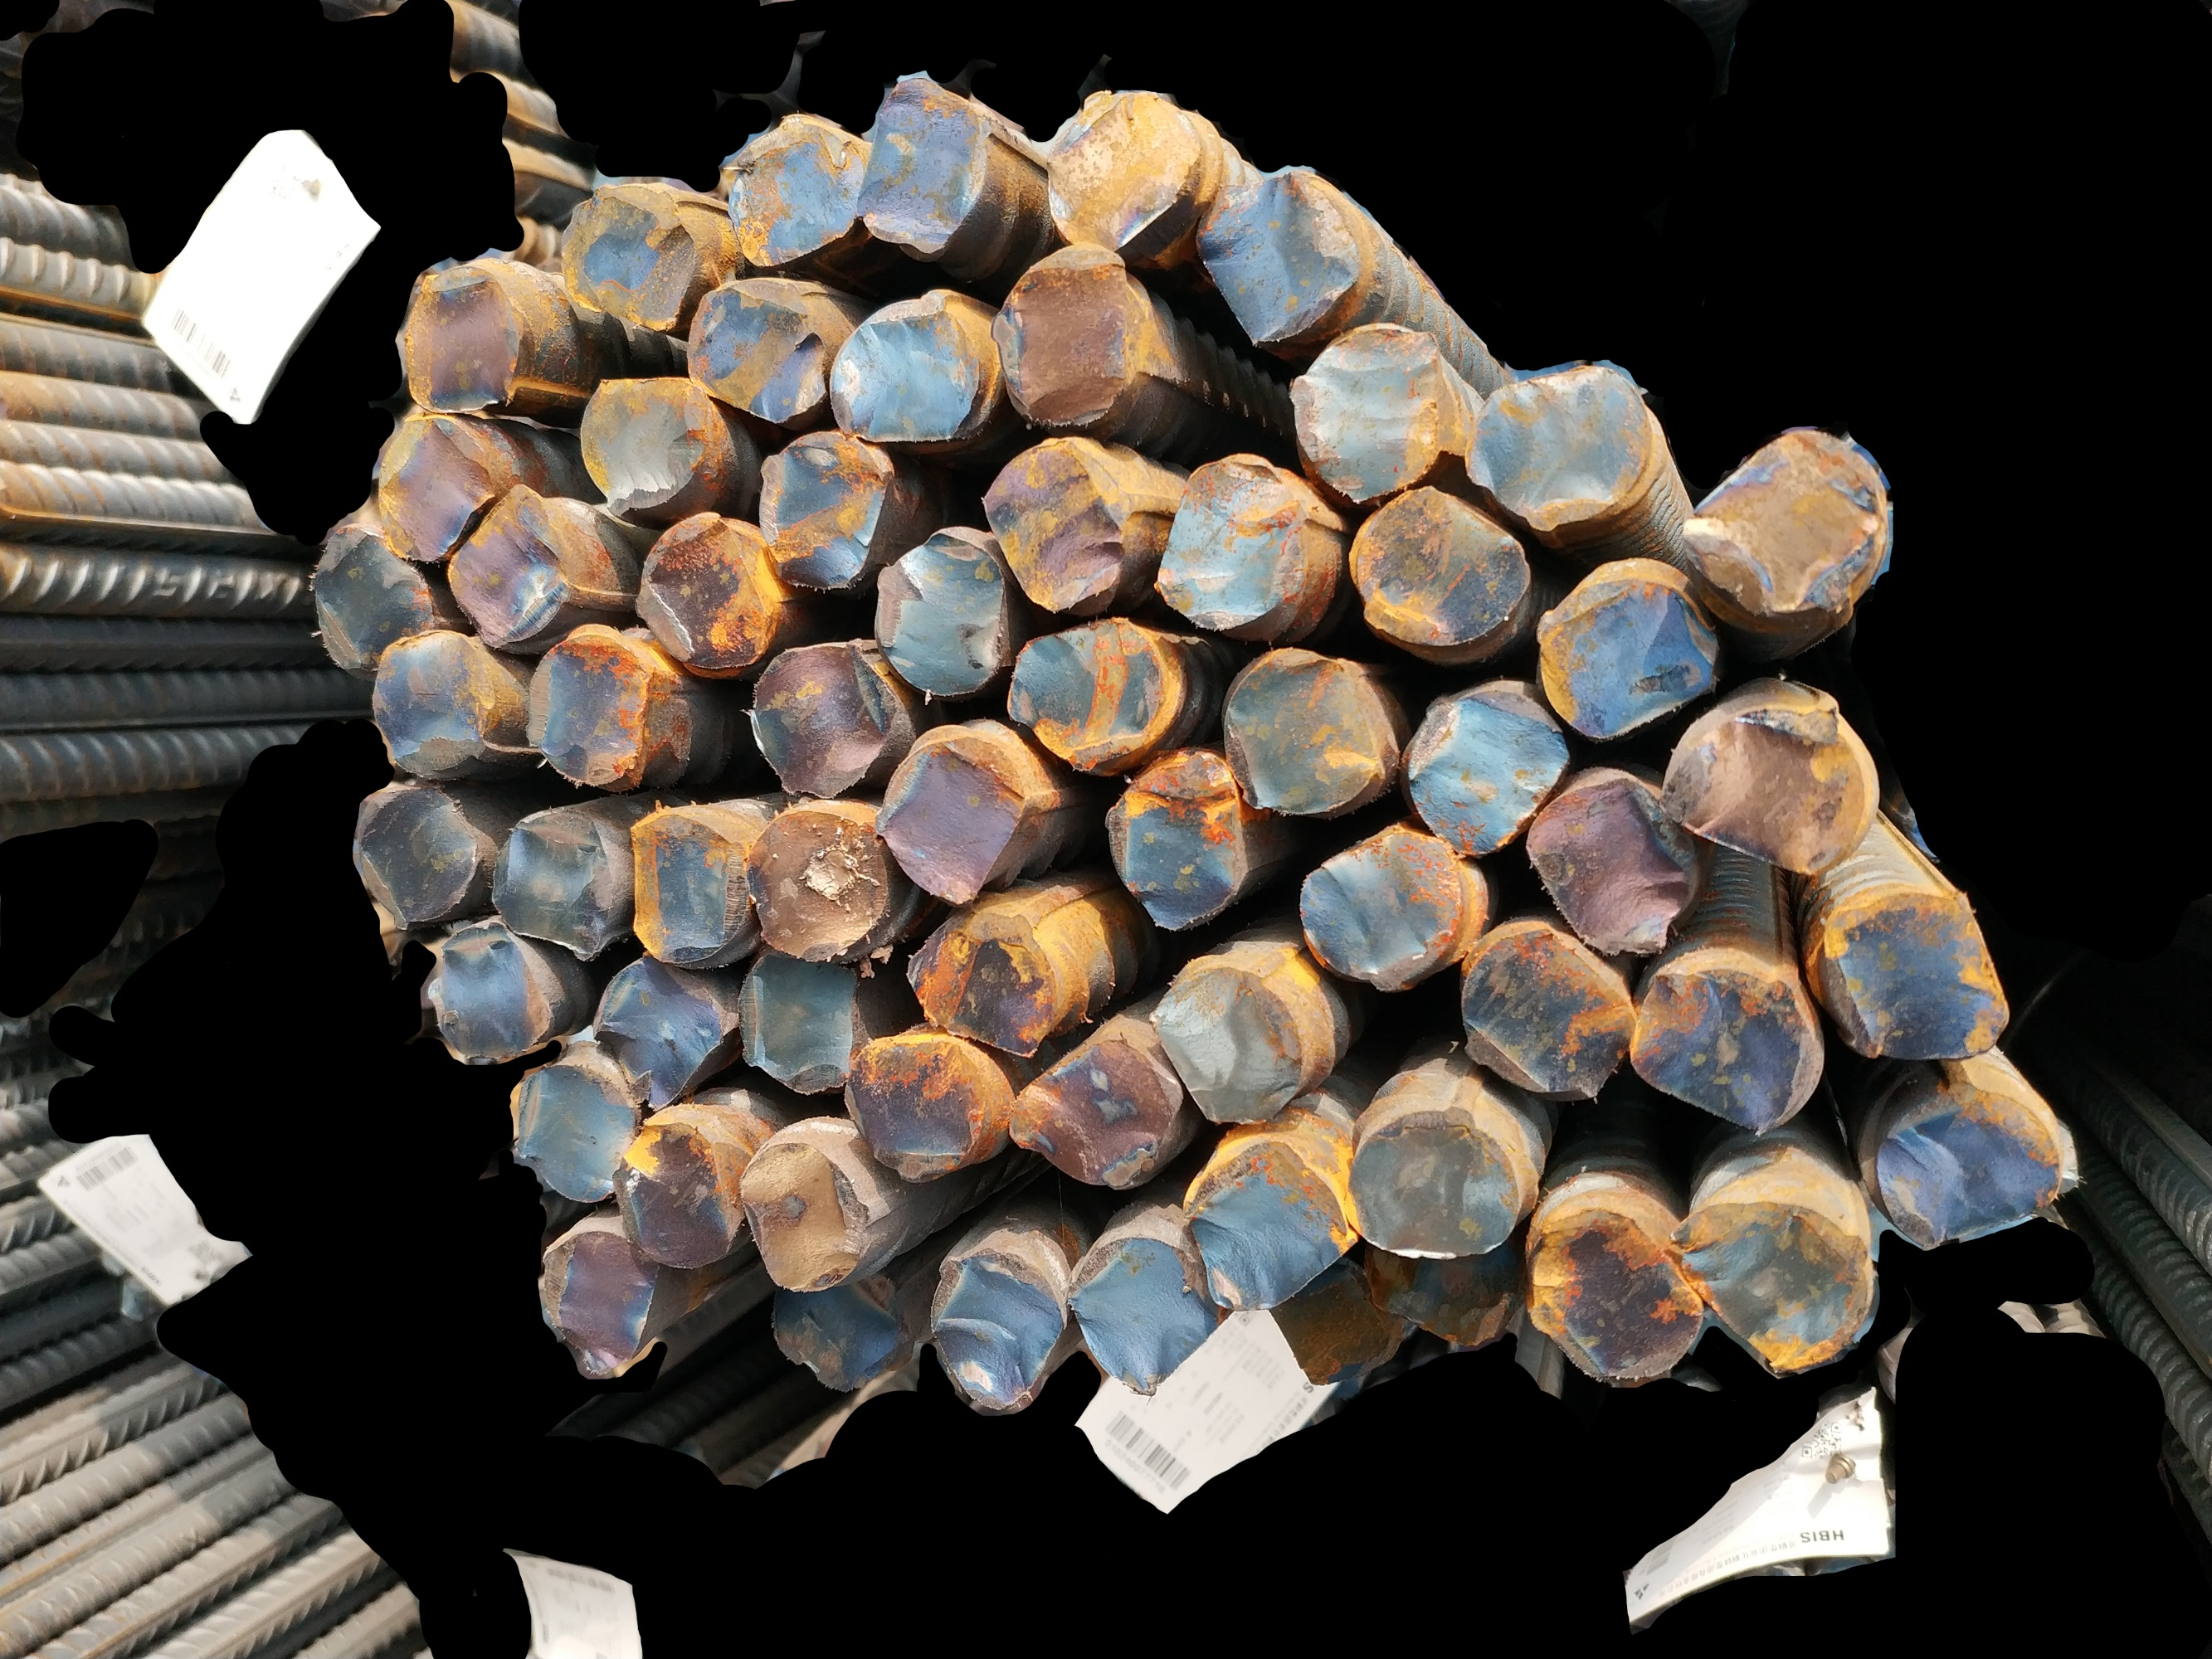rebar: (1677, 422, 1895, 620), (1663, 1192, 1883, 1378), (1863, 1070, 2080, 1253), (1658, 697, 1876, 878), (1806, 890, 2017, 1065), (1520, 770, 1710, 960), (1530, 556, 1720, 742), (1623, 957, 1816, 1138), (1462, 356, 1656, 535), (1454, 918, 1637, 1100), (1520, 1209, 1706, 1385), (1347, 479, 1536, 653), (1279, 317, 1452, 504), (1401, 674, 1572, 863), (1002, 610, 1194, 777), (1192, 164, 1365, 347), (1178, 1141, 1353, 1321), (988, 240, 1150, 432), (1098, 742, 1255, 939), (1215, 645, 1393, 816), (868, 732, 1037, 911), (1295, 819, 1469, 992), (1006, 1030, 1187, 1192), (1154, 451, 1313, 636), (1342, 1107, 1527, 1263), (1149, 962, 1313, 1134), (978, 436, 1130, 617), (744, 638, 903, 810), (1063, 1234, 1222, 1401), (851, 75, 994, 258), (587, 950, 743, 1115), (1044, 87, 1198, 254), (870, 521, 1013, 701), (903, 904, 1060, 1065), (828, 288, 987, 444), (633, 505, 776, 676), (842, 1032, 1001, 1185), (556, 179, 708, 338), (924, 1248, 1069, 1413), (743, 805, 892, 964), (755, 432, 899, 596), (725, 113, 872, 272), (446, 477, 577, 652), (730, 948, 880, 1100), (736, 1140, 880, 1297), (680, 281, 833, 427), (575, 364, 716, 521), (399, 256, 535, 418), (519, 620, 654, 784), (309, 518, 441, 683), (502, 1054, 641, 1209), (624, 800, 750, 971), (608, 1114, 741, 1274), (488, 805, 622, 962), (373, 408, 502, 570), (368, 626, 500, 782), (1356, 1234, 1529, 1351), (349, 779, 485, 927), (533, 1225, 666, 1375), (424, 917, 556, 1063), (762, 1269, 913, 1394), (1262, 1274, 1403, 1387)
